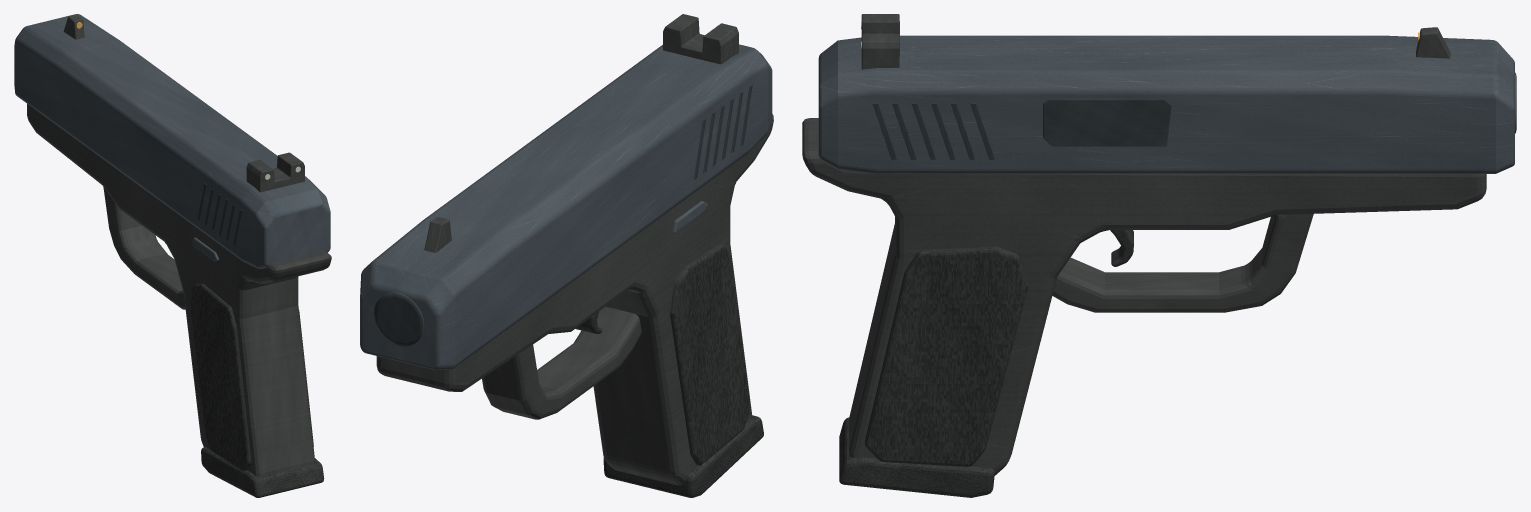
File: Pickup_Pistol.fbx
The picture shows the model from 3 angles, left to right: view 1: azimuth 30°, elevation 25°; view 2: azimuth 150°, elevation 25°; view 3: azimuth 270°, elevation 25°; orthographic projection. The views are drawn at different scales.
Visible parts, largest first — view 1: Pickup_Pistol; view 2: Pickup_Pistol; view 3: Pickup_Pistol.
Part boxes in pixels (x1,y1,x2,y2): Pickup_Pistol: (14, 14, 331, 497); Pickup_Pistol: (360, 14, 773, 497); Pickup_Pistol: (802, 14, 1516, 497).
Size of the model in its own units: 3.1 by 13.18 by 19.
